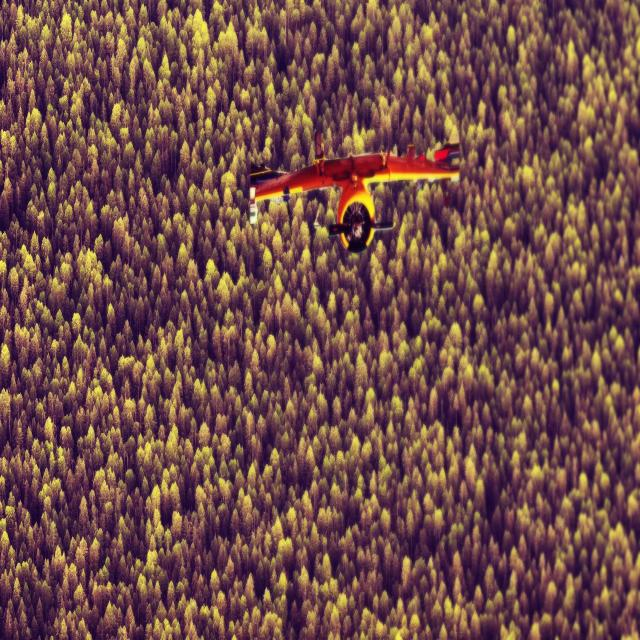airplane: (248, 128, 460, 252)
